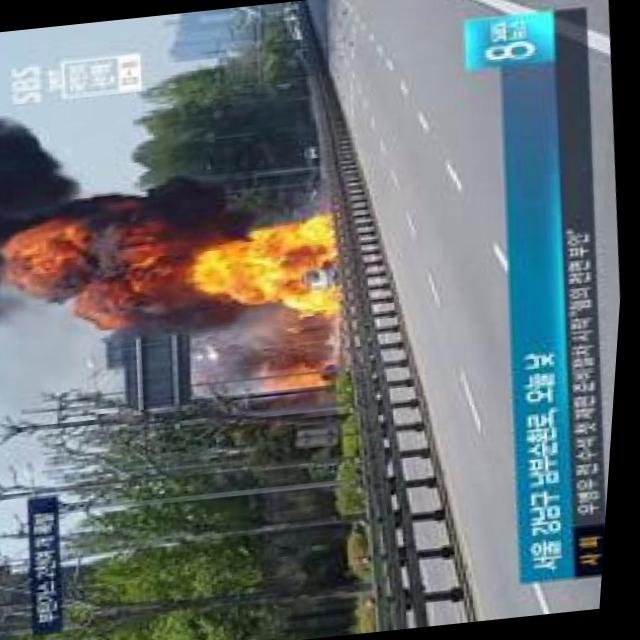Fire: (203, 220, 343, 322), (258, 357, 328, 392)
